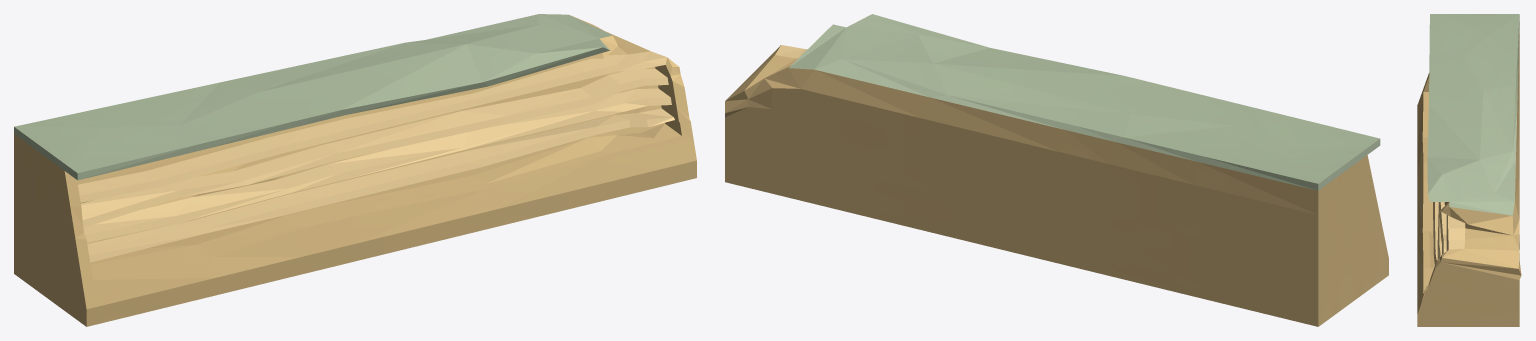
Rendered from desk_1.obj.
3 views of the same model, side by side, from view 1: azimuth 30°, elevation 25°; view 2: azimuth 150°, elevation 25°; view 3: azimuth 270°, elevation 25° (orthographic). The views are drawn at different scales.
Visible parts, largest first — view 1: desk_1_Material; view 2: desk_1_Material; view 3: desk_1_Material.
Boxes of the visible parts, left/top/right/bottom form: desk_1_Material: left=14, top=14, right=696, bottom=326; desk_1_Material: left=725, top=14, right=1388, bottom=326; desk_1_Material: left=1417, top=14, right=1521, bottom=326.
Size of the model in its own units: 3.92 by 0.9023 by 0.8224.
